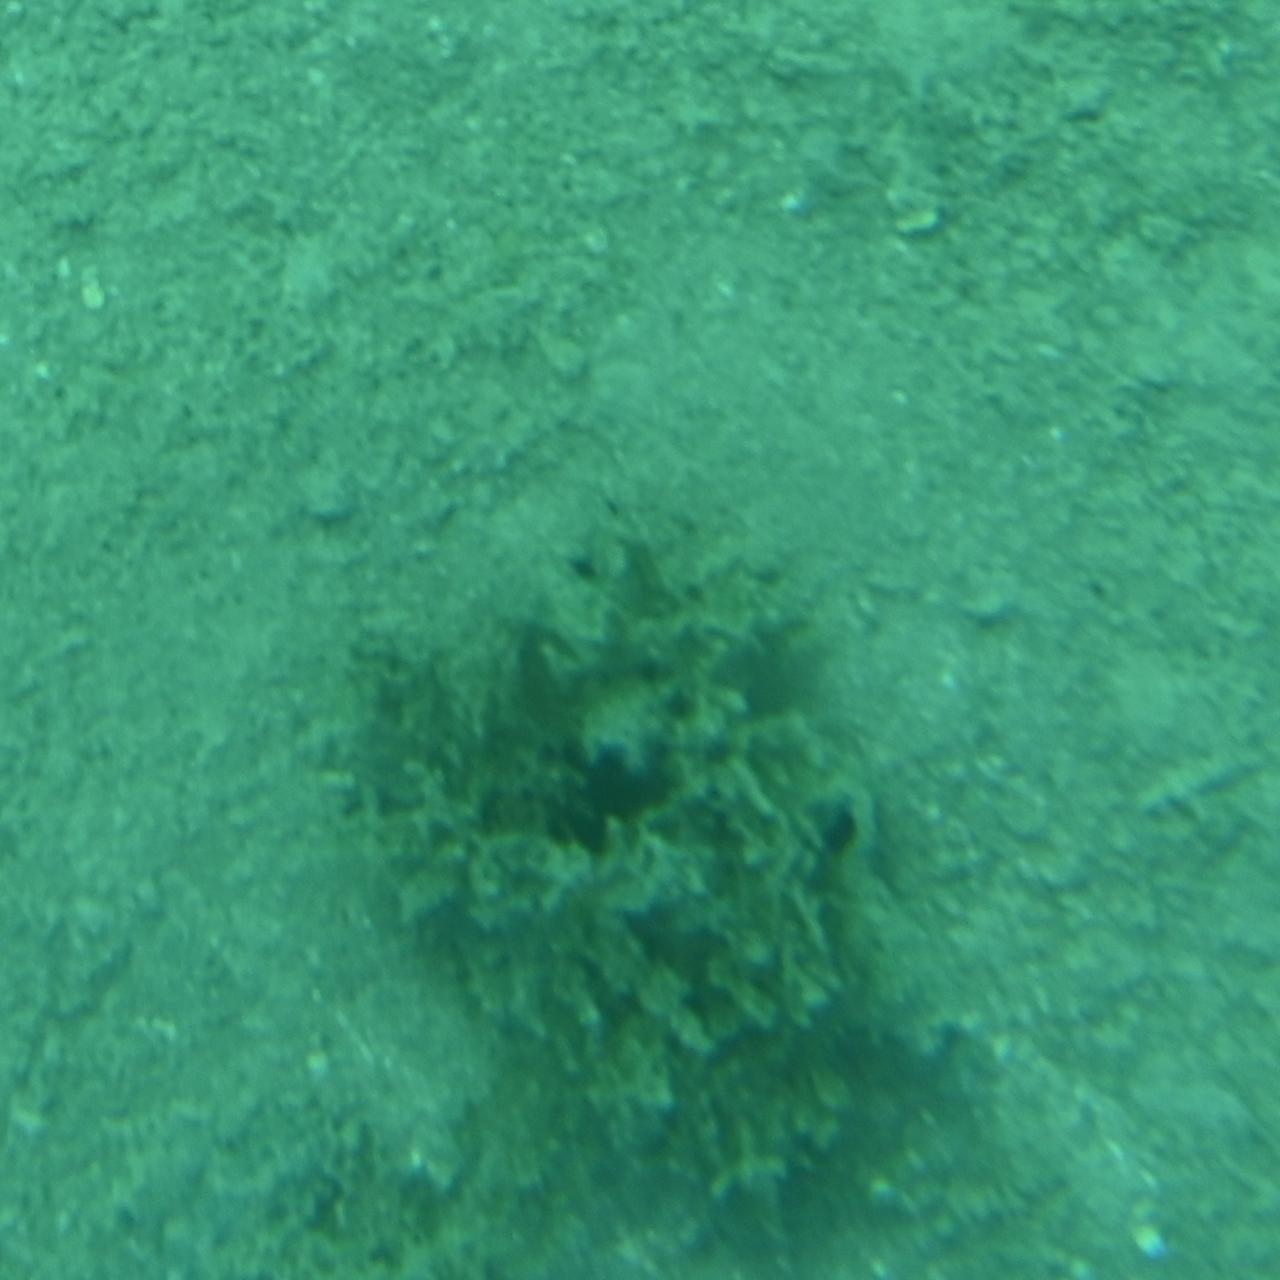Phaeophyceae -cfr Cystoseira-: (331, 525, 949, 1279)
